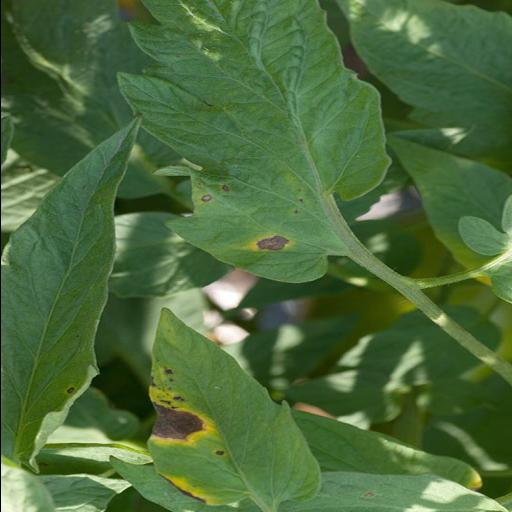disease_tomato: (113, 0, 395, 282), (142, 309, 330, 512)
